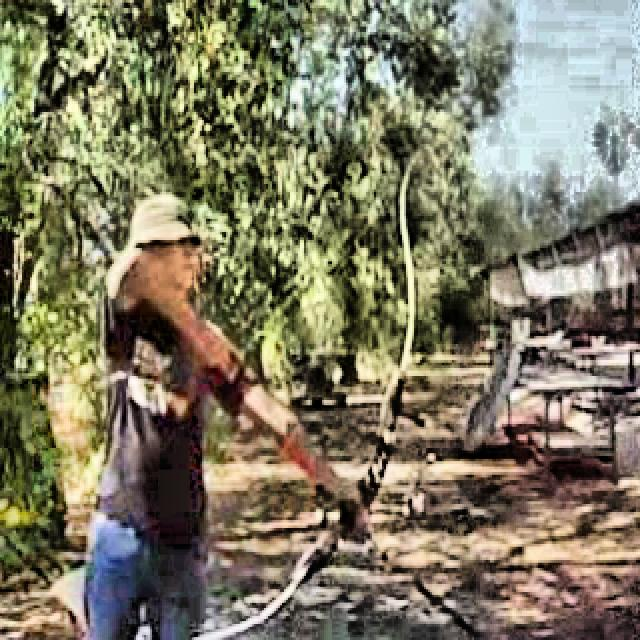I: (69, 194, 389, 640)
